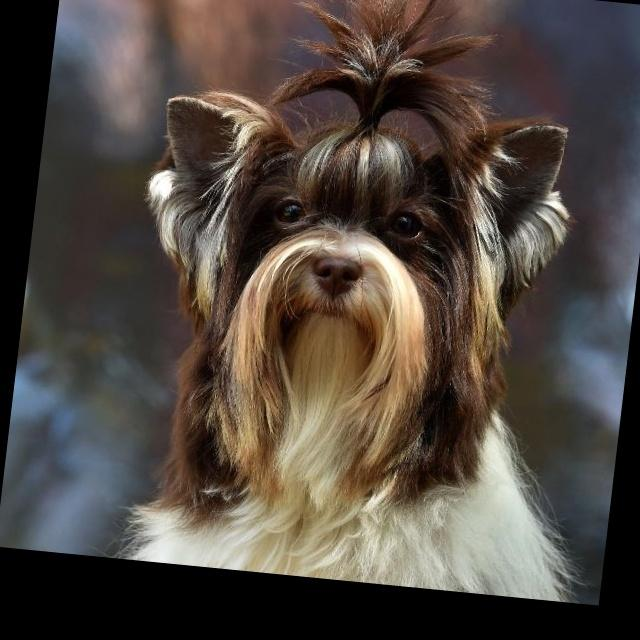dog: (96, 41, 607, 454)
